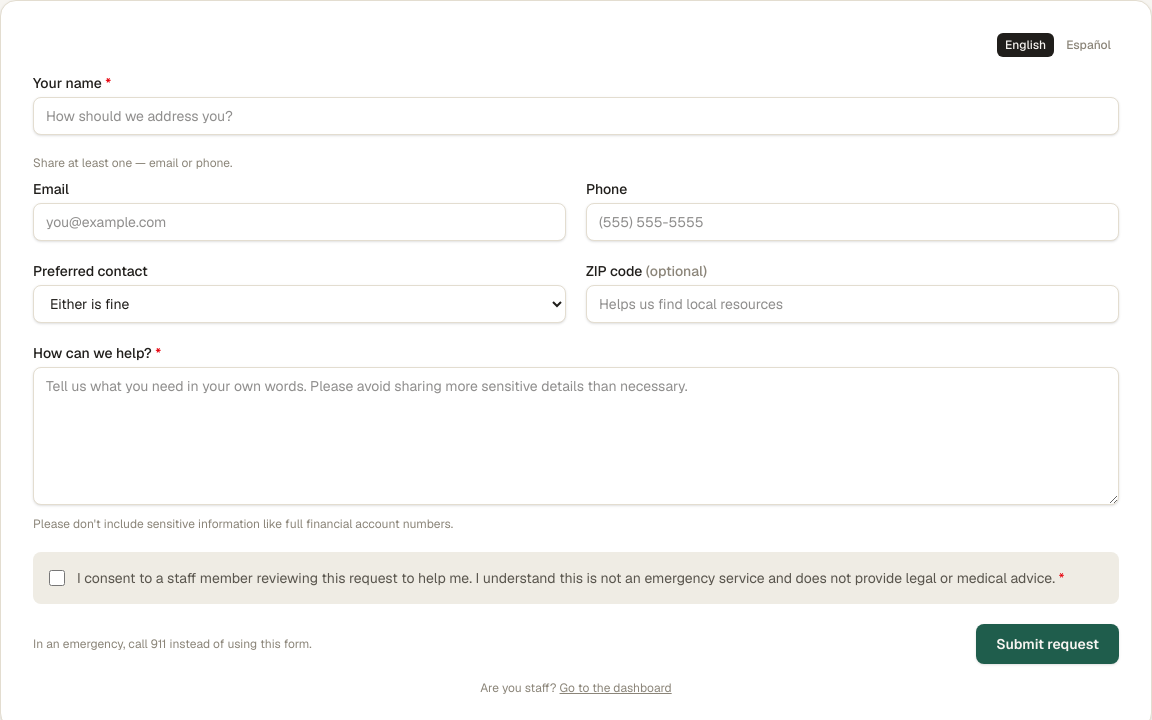
Test case: IntakeForm › blocks submission until consent is checked, with a clear message
Type "Jordan Rivera" into the field labelled "Your name *".
click(576, 116); type("Jordan Rivera")  # box x1=33 y1=97 x2=1119 y2=135
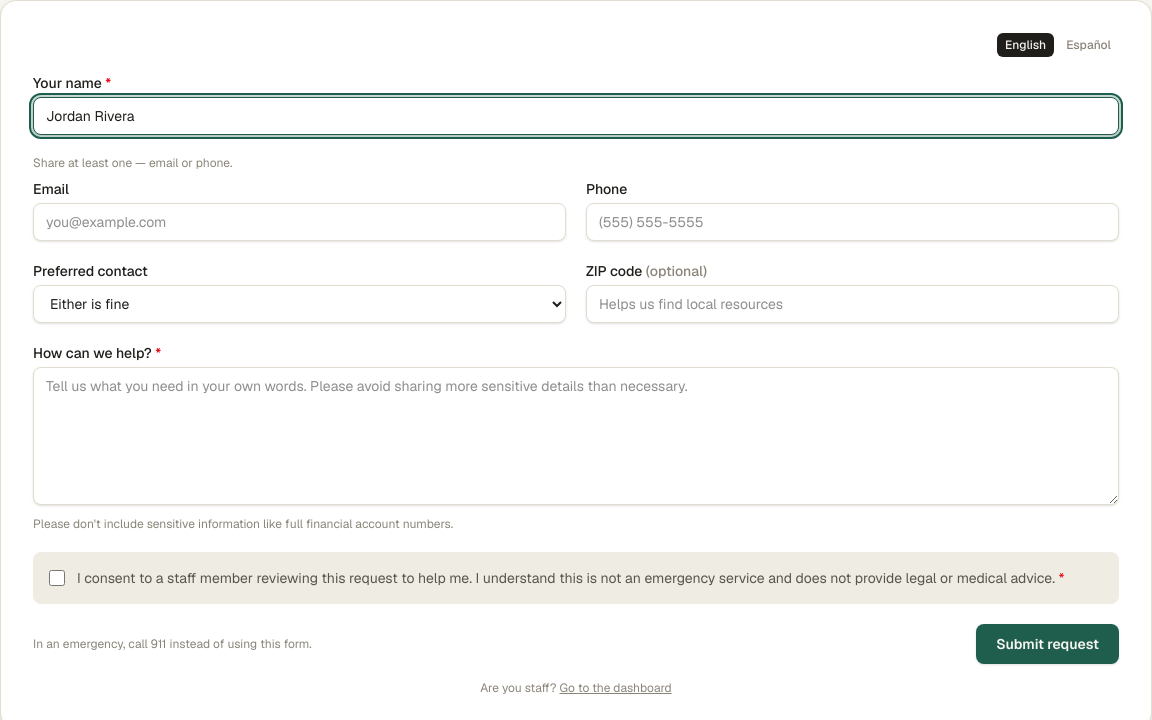
Type "jordan@example.com" into the field labelled "Email".
click(300, 222); type("jordan@example.com")  # box x1=33 y1=203 x2=566 y2=241
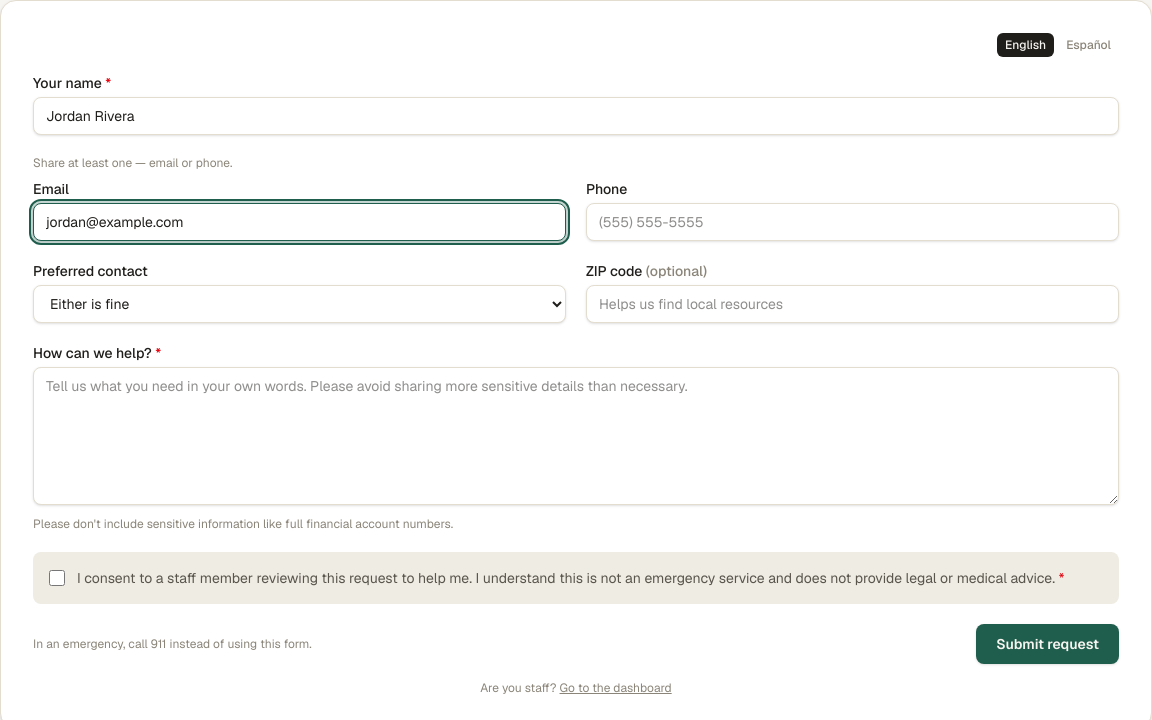
Type "Looking for help finding a food pantry near me." into the text box labelled "How can we help? *".
click(576, 436); type("Looking for help finding a food pantry near me.")  # box x1=33 y1=367 x2=1119 y2=505
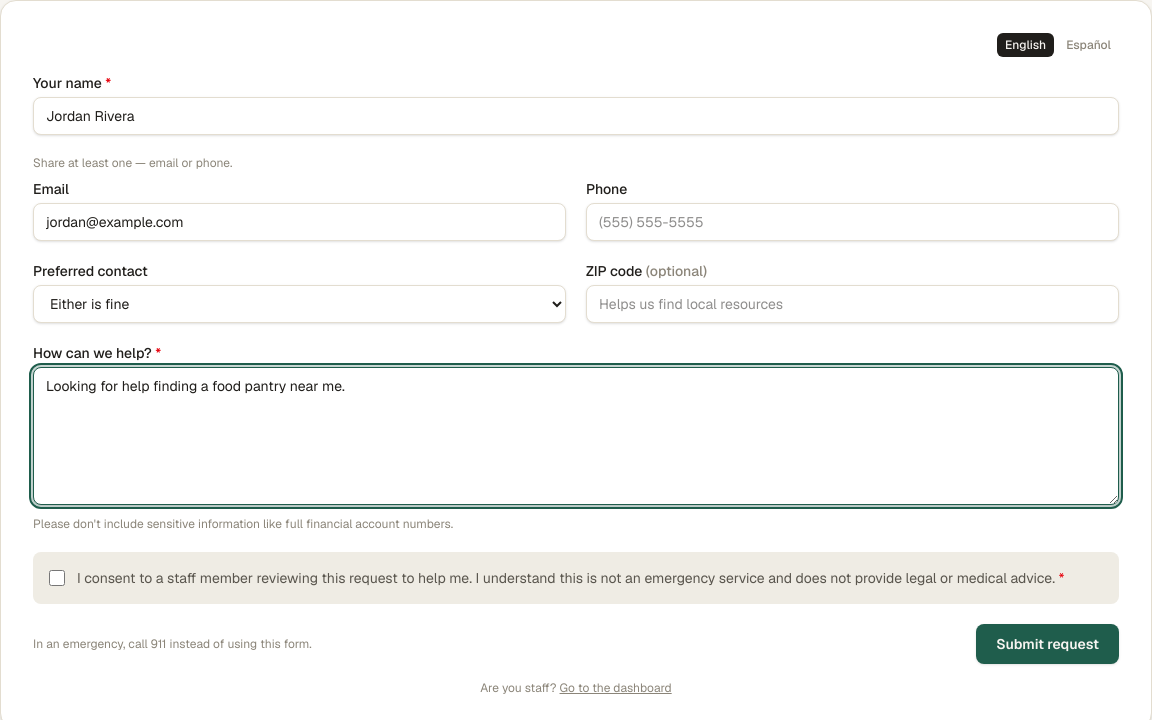
Click the button "Submit request".
click(1048, 644)  # box x1=976 y1=624 x2=1119 y2=664
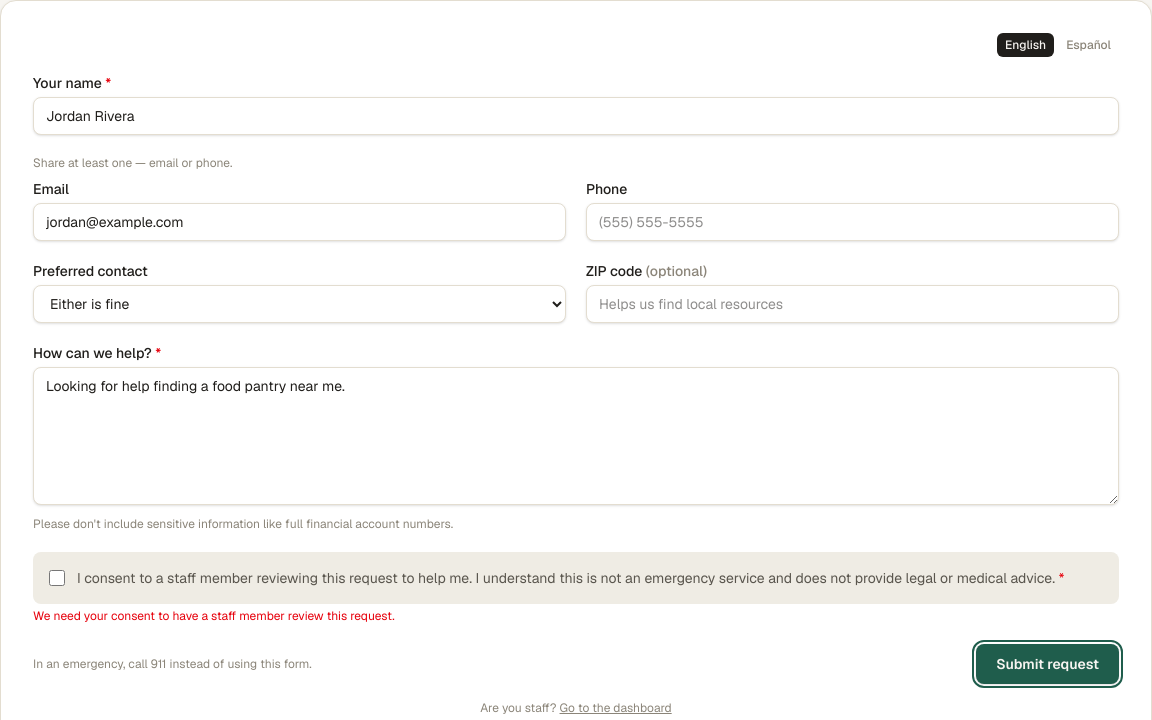
Now the message shows "consent", box x1=33 y1=608 x2=395 y2=624
